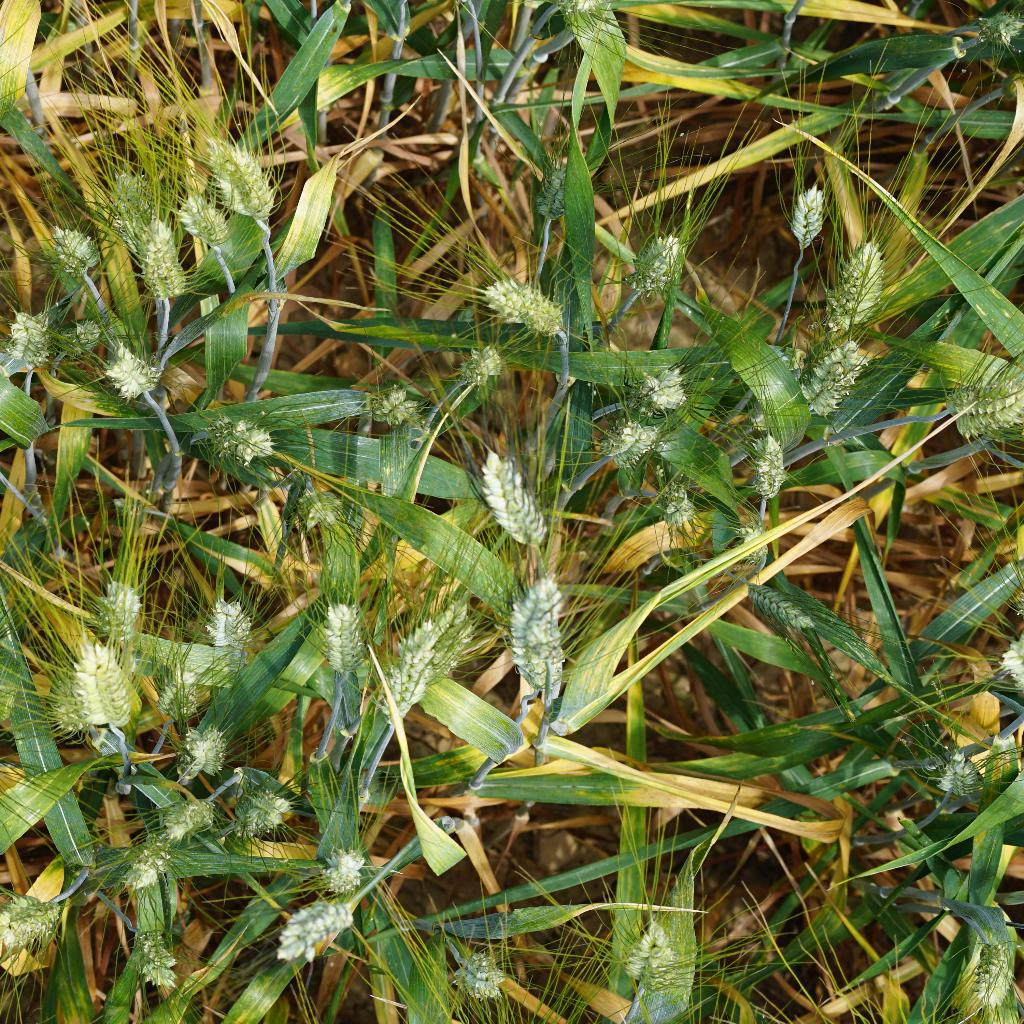0-0: (492, 571, 583, 691), (468, 449, 563, 559), (770, 322, 867, 411), (810, 235, 890, 340), (198, 138, 280, 236), (731, 578, 858, 641), (262, 896, 372, 964), (474, 269, 570, 346), (370, 619, 440, 724), (198, 408, 287, 490), (941, 922, 1020, 1011), (615, 897, 688, 991), (942, 358, 1024, 438), (194, 589, 264, 681), (617, 227, 702, 301), (60, 653, 135, 735), (217, 772, 292, 848), (114, 920, 189, 996), (311, 591, 372, 684), (93, 339, 174, 408), (773, 169, 837, 254), (1, 883, 69, 963), (421, 591, 482, 680), (127, 210, 182, 301), (178, 187, 240, 265), (119, 829, 178, 908), (447, 948, 515, 1016), (0, 307, 67, 376), (290, 486, 354, 552), (926, 729, 979, 807), (591, 408, 660, 467), (747, 430, 802, 504), (530, 153, 583, 229), (89, 567, 144, 635), (169, 725, 234, 781), (153, 662, 208, 727), (363, 382, 423, 441), (657, 473, 705, 546), (49, 311, 114, 364), (107, 153, 156, 221), (322, 844, 378, 901), (160, 791, 215, 849), (451, 342, 508, 396), (44, 223, 94, 284), (723, 512, 773, 566), (641, 365, 694, 415), (970, 2, 1024, 50)
